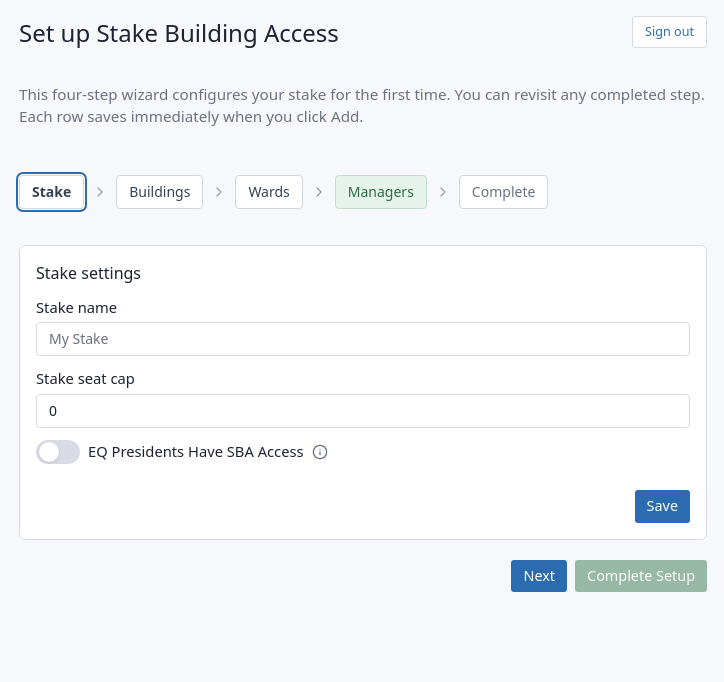
Test: <BootstrapWizardPage /> › does not flash "Add a building first" while the buildings snapshot is in flight
Click the tab with test id "wizard-step-tab-3".
click(269, 192)  # box [235,175,303,209]
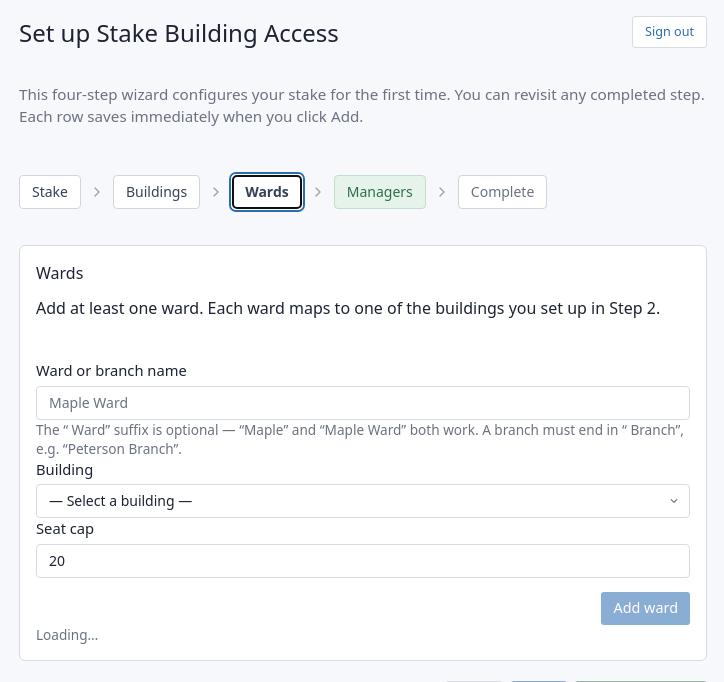
Check: the text with test id "bootstrap-ward-blocked-hint" does not show "Add a building first", box [36,624,98,644]
Check: the text with test id "bootstrap-ward-blocked-hint" reads "Loading…", box [36,624,98,644]
